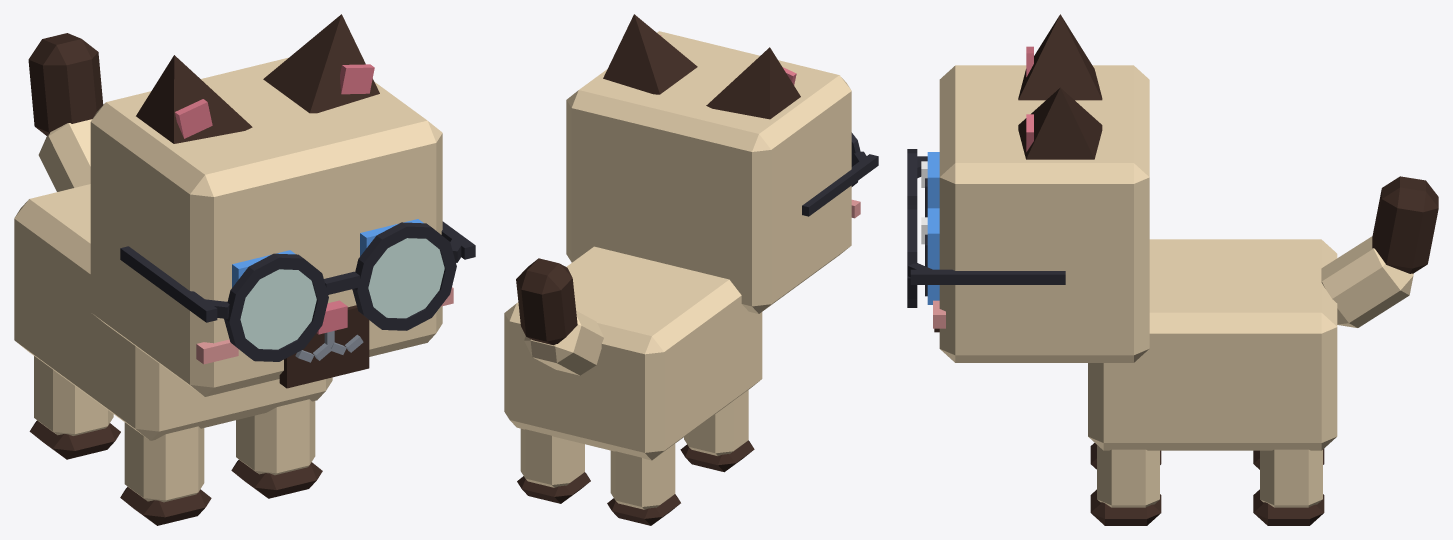
Rendered from CatCafe_Cat_Siamese.glb.
3 views of the same model, side by side, from view 1: azimuth 30°, elevation 25°; view 2: azimuth 150°, elevation 25°; view 3: azimuth 270°, elevation 25° (orthographic). The views are drawn at different scales.
Visible parts, largest first — view 1: CatCafe_Cat_Siamese_Head, CatCafe_Cat_Siamese_Body, CatCafe_Cat_Siamese_Prop, CatCafe_Cat_Siamese_Prop_Glass, CatCafe_Cat_Siamese_Tail, CatCafe_Cat_Siamese_LegF2, CatCafe_Cat_Siamese_LegF1, CatCafe_Cat_Siamese_EarL, CatCafe_Cat_Siamese_LegB2, CatCafe_Cat_Siamese_EarR; view 2: CatCafe_Cat_Siamese_Head, CatCafe_Cat_Siamese_Body, CatCafe_Cat_Siamese_Tail, CatCafe_Cat_Siamese_LegB2, CatCafe_Cat_Siamese_EarL, CatCafe_Cat_Siamese_LegB1, CatCafe_Cat_Siamese_EarR, CatCafe_Cat_Siamese_LegF2, CatCafe_Cat_Siamese_Prop; view 3: CatCafe_Cat_Siamese_Head, CatCafe_Cat_Siamese_Body, CatCafe_Cat_Siamese_Tail, CatCafe_Cat_Siamese_LegF1, CatCafe_Cat_Siamese_LegB1, CatCafe_Cat_Siamese_EarR, CatCafe_Cat_Siamese_EarL, CatCafe_Cat_Siamese_Prop, CatCafe_Cat_Siamese_Eye1, CatCafe_Cat_Siamese_Eye2.
Part boxes in pixels (left/top/right/bottom): CatCafe_Cat_Siamese_Head: left=90, top=57, right=453, bottom=396; CatCafe_Cat_Siamese_Body: left=14, top=184, right=332, bottom=440; CatCafe_Cat_Siamese_Prop: left=120, top=221, right=475, bottom=361; CatCafe_Cat_Siamese_Prop_Glass: left=240, top=238, right=444, bottom=349; CatCafe_Cat_Siamese_Tail: left=28, top=33, right=103, bottom=191; CatCafe_Cat_Siamese_LegF2: left=120, top=422, right=211, bottom=525; CatCafe_Cat_Siamese_LegF1: left=231, top=399, right=322, bottom=498; CatCafe_Cat_Siamese_EarL: left=263, top=14, right=379, bottom=113; CatCafe_Cat_Siamese_LegB2: left=29, top=356, right=120, bottom=459; CatCafe_Cat_Siamese_EarR: left=136, top=55, right=252, bottom=143; CatCafe_Cat_Siamese_Head: left=566, top=31, right=860, bottom=313; CatCafe_Cat_Siamese_Body: left=504, top=246, right=762, bottom=460; CatCafe_Cat_Siamese_Tail: left=516, top=258, right=603, bottom=375; CatCafe_Cat_Siamese_LegB2: left=607, top=443, right=680, bottom=525; CatCafe_Cat_Siamese_EarL: left=603, top=14, right=697, bottom=94; CatCafe_Cat_Siamese_LegB1: left=517, top=428, right=590, bottom=503; CatCafe_Cat_Siamese_EarR: left=706, top=47, right=800, bottom=119; CatCafe_Cat_Siamese_LegF2: left=680, top=390, right=754, bottom=472; CatCafe_Cat_Siamese_Prop: left=802, top=132, right=878, bottom=216; CatCafe_Cat_Siamese_Head: left=933, top=65, right=1149, bottom=362; CatCafe_Cat_Siamese_Body: left=1088, top=239, right=1337, bottom=450; CatCafe_Cat_Siamese_Tail: left=1321, top=176, right=1438, bottom=327; CatCafe_Cat_Siamese_LegF1: left=1090, top=445, right=1161, bottom=525; CatCafe_Cat_Siamese_LegB1: left=1253, top=449, right=1324, bottom=525; CatCafe_Cat_Siamese_EarR: left=1018, top=14, right=1102, bottom=100; CatCafe_Cat_Siamese_EarL: left=1018, top=87, right=1102, bottom=159; CatCafe_Cat_Siamese_Prop: left=907, top=149, right=1065, bottom=307; CatCafe_Cat_Siamese_Eye1: left=921, top=208, right=939, bottom=304; CatCafe_Cat_Siamese_Eye2: left=921, top=152, right=939, bottom=217.
Bounding box in the file's own units: 1.07 × 1.86 × 2.02.
1 material, 1 textured.
